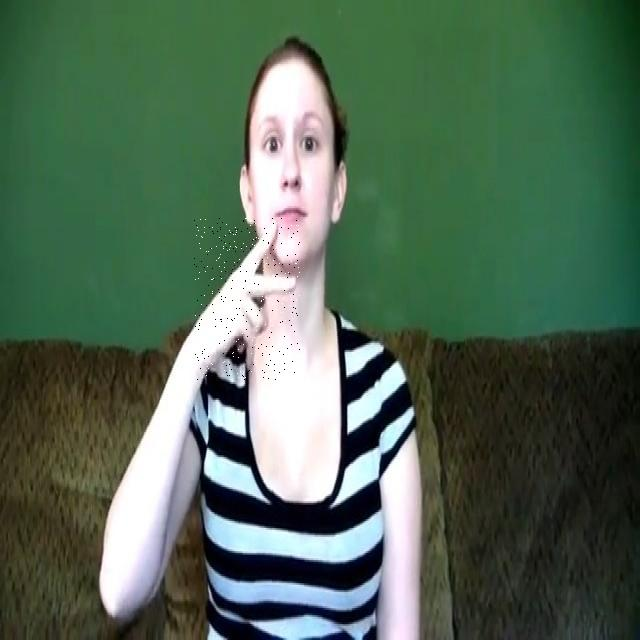vegetables: (194, 218, 300, 380)
